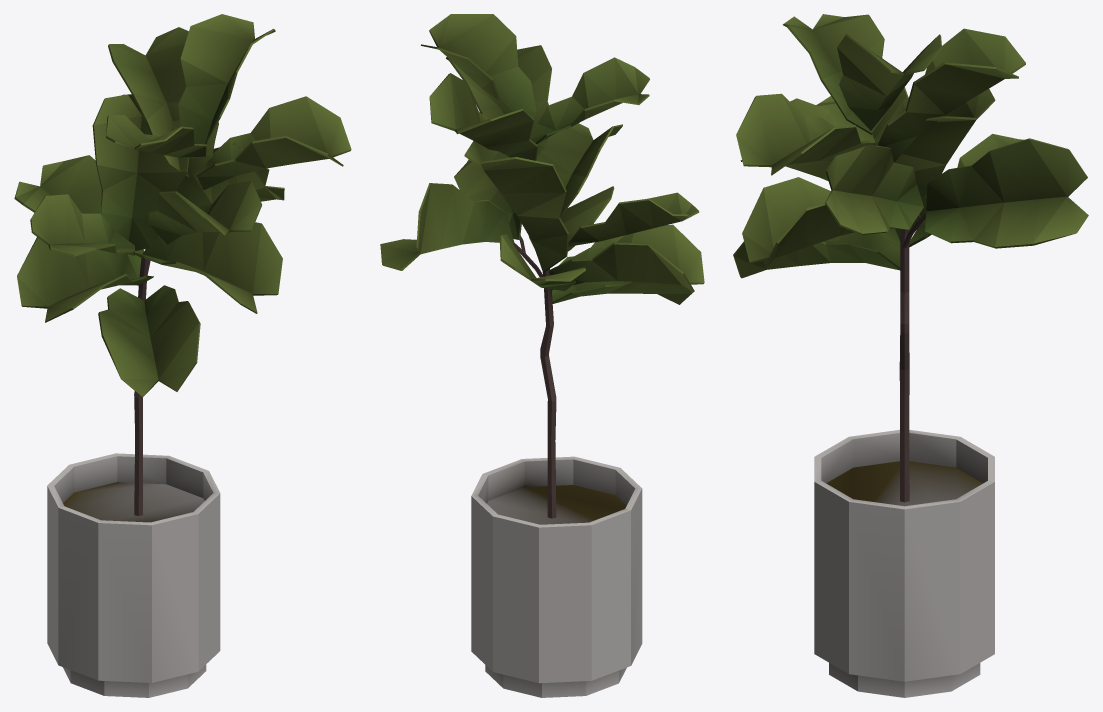
Rendered from fiddle.fbx.
3 renders of one model, left to right at view 1: azimuth 30°, elevation 25°; view 2: azimuth 150°, elevation 25°; view 3: azimuth 270°, elevation 25°, orthographic. The views are drawn at different scales.
Visible parts, largest first — view 1: FiddleleafFigPottedPlant_mesh; view 2: FiddleleafFigPottedPlant_mesh; view 3: FiddleleafFigPottedPlant_mesh.
Boxes of the visible parts, box(x1,y1,x2,y2) form: FiddleleafFigPottedPlant_mesh: box(14, 14, 351, 697); FiddleleafFigPottedPlant_mesh: box(380, 14, 704, 697); FiddleleafFigPottedPlant_mesh: box(733, 14, 1088, 697).
Size of the model in its own units: 0.4808 by 1 by 0.475.
